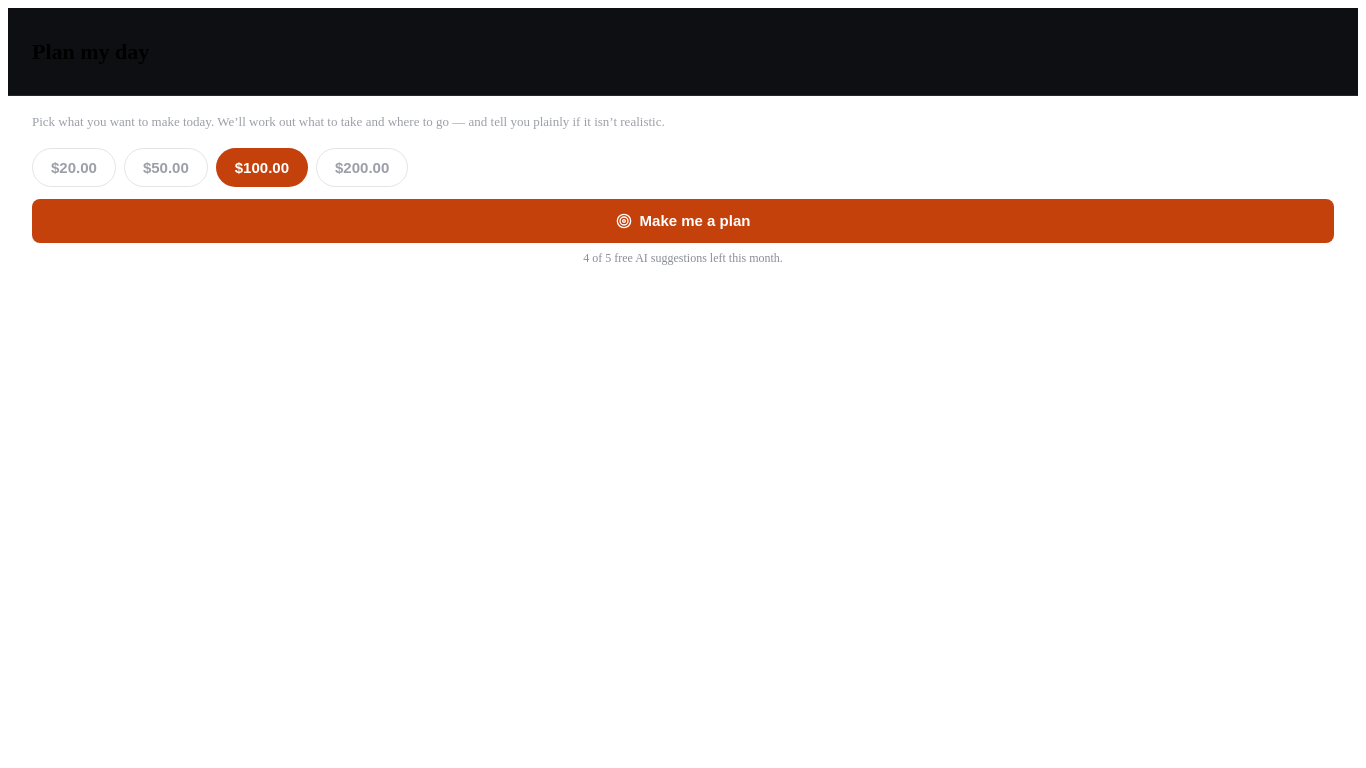
it: E-9 Income Coach (demo mode) › shows what the seller has actually made recently — measured, not claimed
This screenshot has width=1366, height=768.
Click the button "Make me a plan". click: coordinates (683, 221)
box: top-left (32, 199), bottom-right (1334, 243)
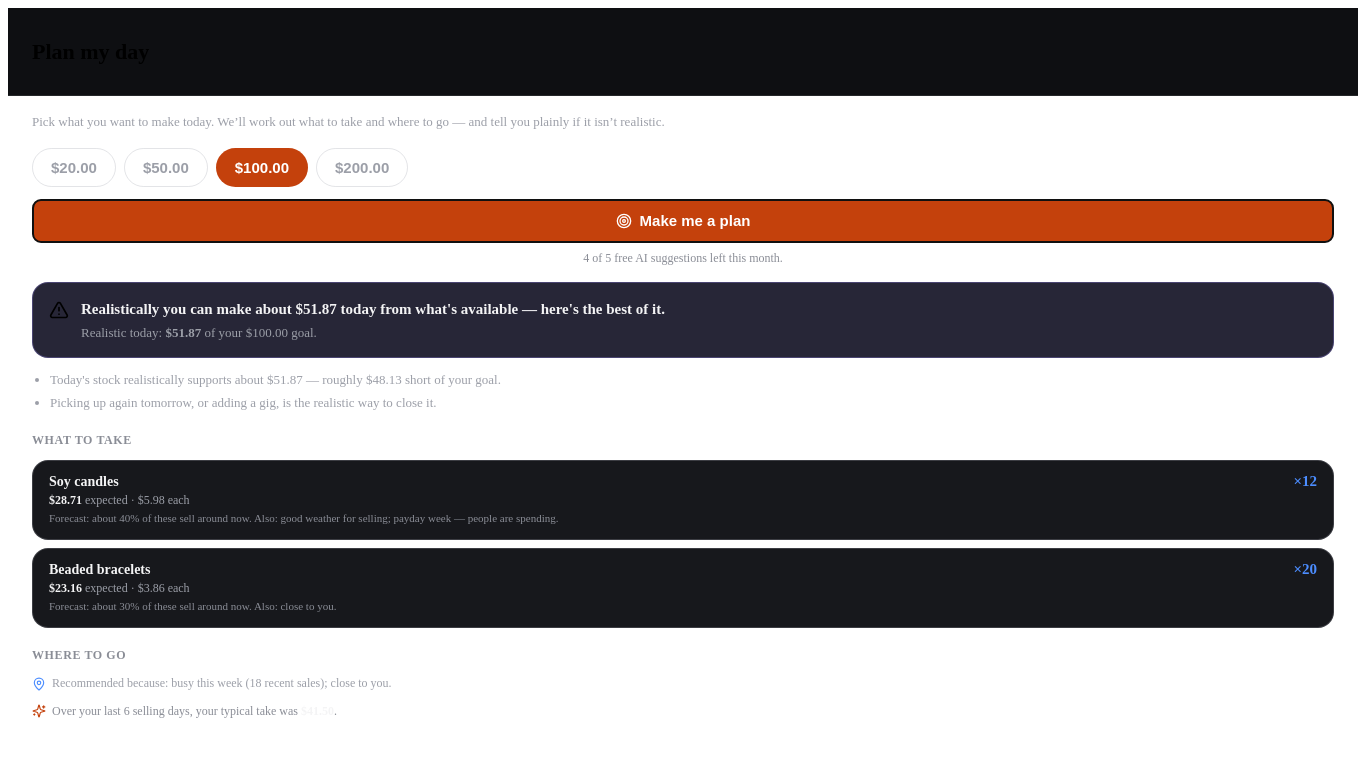
Expected: the text "$41.50" is shown, top-left (301, 704), bottom-right (334, 718)
Now the text "Over your last 6 selling days, your typical take was $41.50." is shown, box top-left (52, 704), bottom-right (337, 719)
